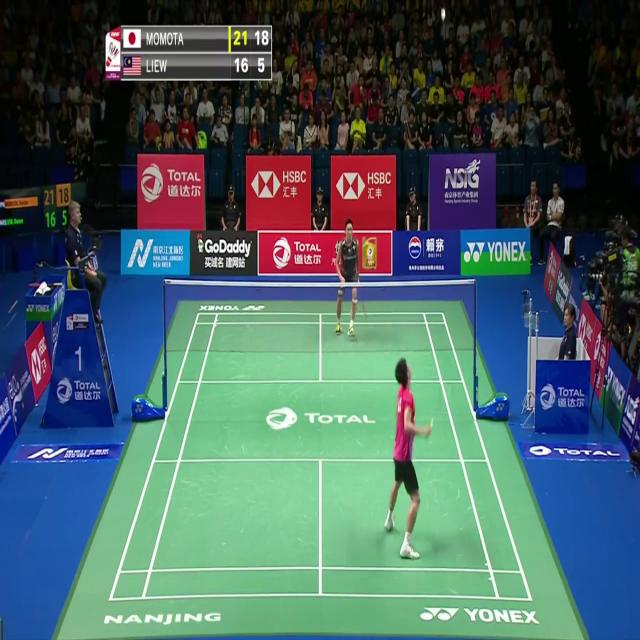Shuttlecock: (439, 8, 446, 19)
